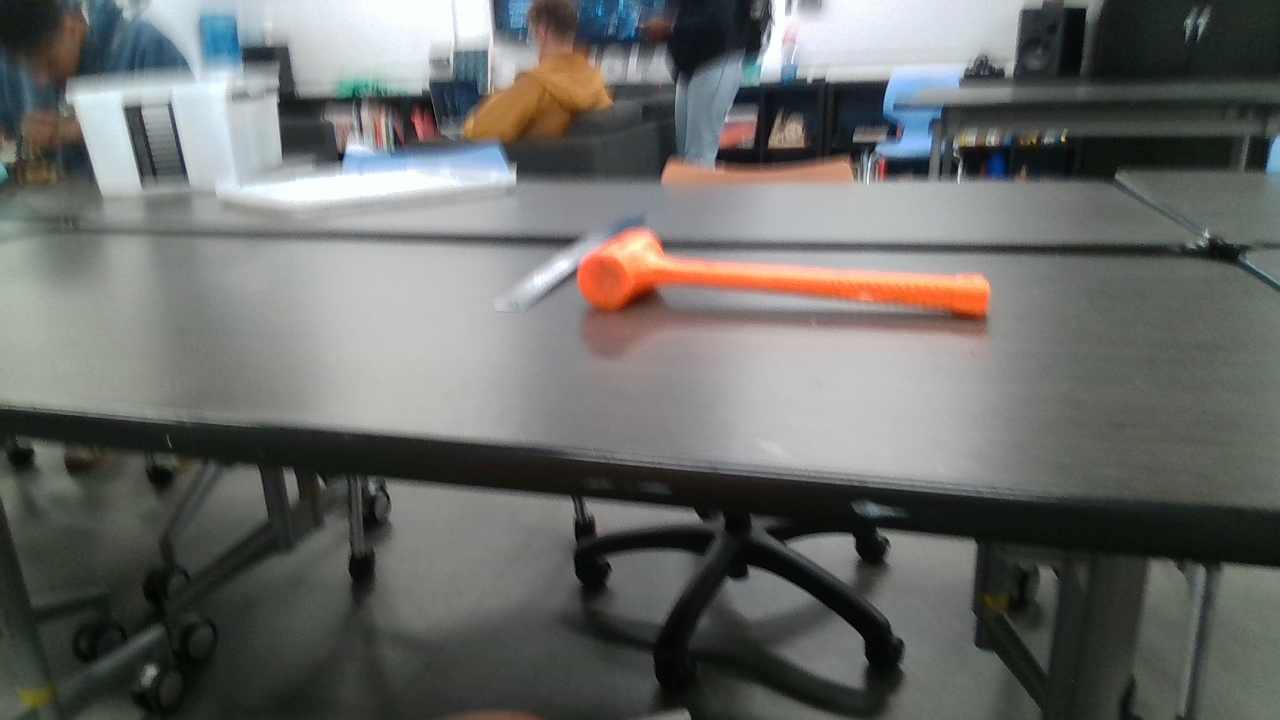Orange Hammer: (574, 226, 987, 321)
